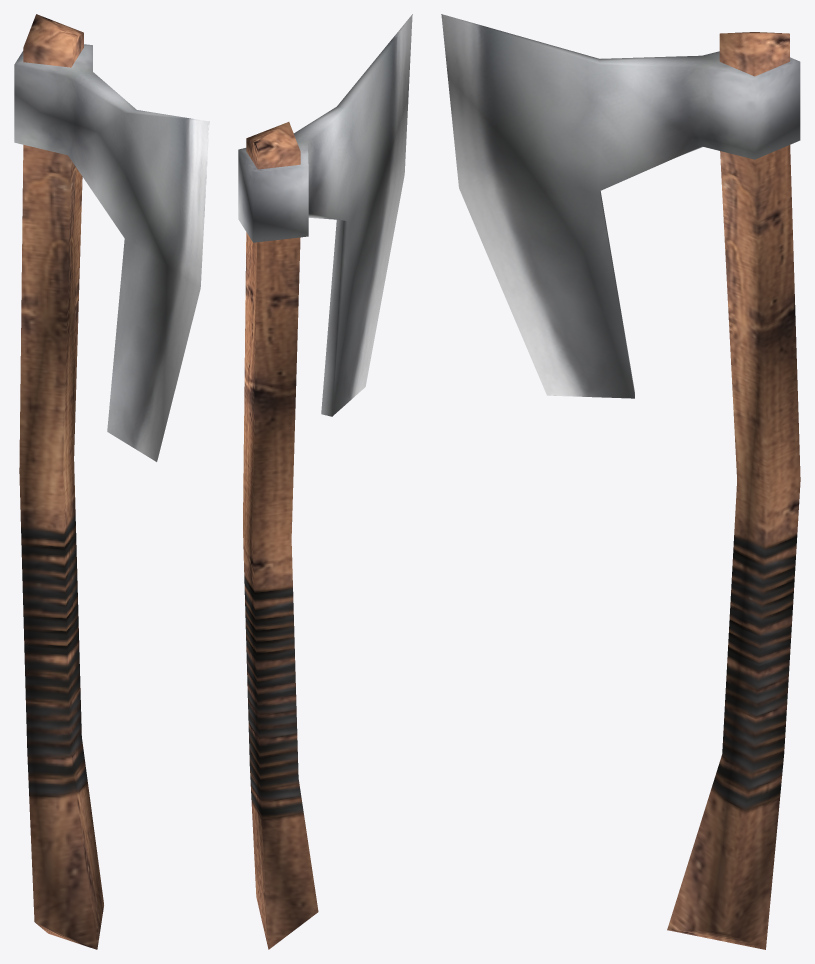
The model's file is MedievalOneHandAxe.fbx.
3 renders of one model, left to right at view 1: azimuth 30°, elevation 25°; view 2: azimuth 150°, elevation 25°; view 3: azimuth 270°, elevation 25°, orthographic. The views are drawn at different scales.
Visible parts, largest first — view 1: MedievalOneHandAxe; view 2: MedievalOneHandAxe; view 3: MedievalOneHandAxe.
Part boxes in pixels (x1,y1,x2,y2): MedievalOneHandAxe: (14,14,209,949); MedievalOneHandAxe: (238,14,412,949); MedievalOneHandAxe: (441,14,800,949).
Size of the model in its own units: 0.0622 by 0.7041 by 0.2449.
